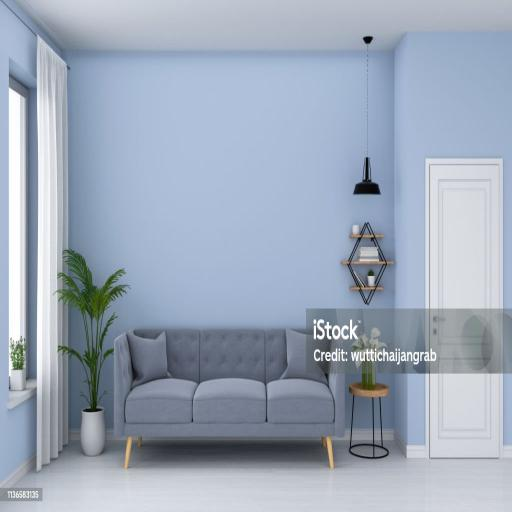back_cushion: (166, 329, 286, 383)
left_arm: (328, 361, 344, 436), (318, 339, 346, 352), (315, 310, 336, 324)
legs: (324, 436, 333, 468), (124, 436, 132, 468), (138, 438, 142, 447)
right_arm: (114, 334, 134, 434)
seat_cushion: (122, 378, 334, 425)
stallion-sofa: (114, 329, 344, 467)
